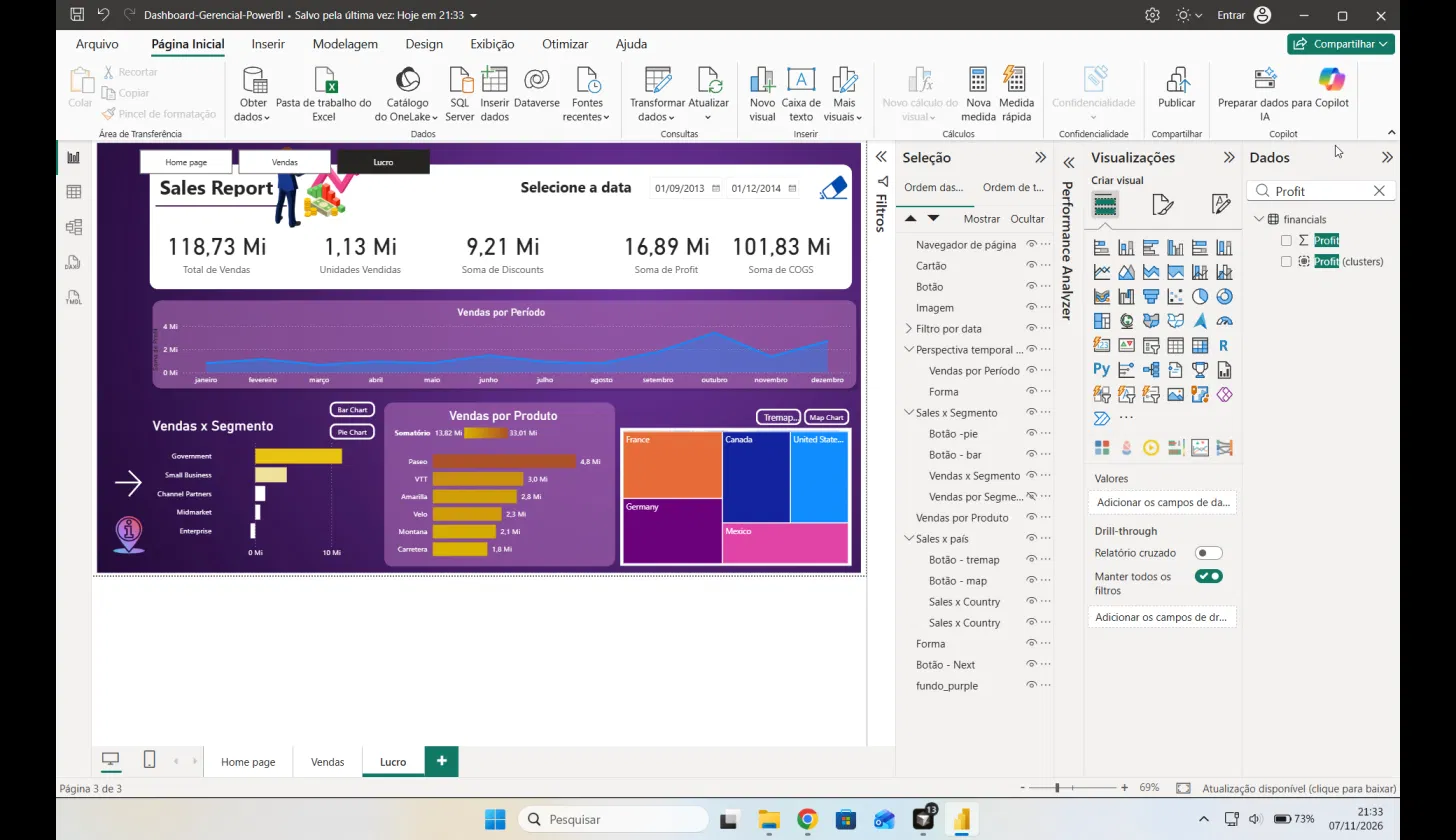

Layout of this report page (visuals, bound fields, positions):
{"tool":"powerbi","page":{"name":"Lucro","canvas":[1280,720],"ordinal":2},"visuals":[{"type":"image","title":"fundo_purple","box":[0,0,1280.3,720],"z":0},{"type":"shape","box":[95.8,41.1,1161.3,206.6],"z":0,"group":"g4"},{"type":"shape","box":[90.5,255.5,1181.8,163.7],"z":0,"group":"g3"},{"type":"map","title":"Sales x Country","fields":{"Category":["financials.Country"],"Size":["Sum(financials. Sales)"]},"box":[873.8,476.1,382,228.1],"z":0,"group":"g1"},{"type":"shape","box":[105.6,92.3,216.7,32.8],"z":1000,"group":"g4"},{"type":"areaChart","title":"Vendas por Período","fields":{"Category":["financials.Date.Variation.Hierarquia de datas.Trimestre","financials.Date.Variation.Hierarquia de datas.Mês"],"Y":["Sum(financials.Profit)"]},"box":[94.3,274.7,1163.2,139.7],"z":1000,"group":"g3"},{"type":"clusteredBarChart","title":"Vendas x Segmento","fields":{"Category":["financials.Segment"],"Y":["Sum(financials.Profit)"]},"box":[94.9,459.3,383.9,242.3],"z":1000,"group":"g2"},{"type":"treemap","title":"Sales x Country","fields":{"Group":["financials.Country"],"Values":["Sum(financials.Profit)"]},"box":[873.8,477.5,382,228.1],"z":1000,"group":"g1"},{"type":"actionButton","title":"Botão - Next","box":[32.4,539.2,58,56.3],"z":1000},{"type":"slicer","fields":{"Values":["financials.Date"]},"box":[909.9,50.5,272.2,55.6],"z":2000,"group":"g4"},{"type":"actionButton","title":"Botão - bar","box":[393.4,432.9,75.1,25.6],"z":2000,"group":"g2"},{"type":"shape","box":[482.9,433.4,382.2,271.3],"z":2000},{"type":"actionButton","title":"Botão - map","box":[1177.5,444.2,75.1,27.3],"z":2000,"group":"g1"},{"type":"textbox","box":[704.6,56.2,199.6,45.6],"z":3000,"group":"g4"},{"type":"group","id":"g1","title":"Sales x país","box":[873.8,444.2,382,261.4],"z":3000},{"type":"actionButton","title":"Botão - tremap","box":[1097.3,444.2,75.1,27.3],"z":3000,"group":"g1"},{"type":"actionButton","title":"Botão -pie","box":[393.2,469.1,74.8,26.6],"z":3000,"group":"g2"},{"type":"card","fields":{"Values":["Sum(financials.Units Sold)"]},"box":[338.3,130.3,211,105.5],"z":4000,"group":"g4"},{"type":"clusteredBarChart","title":"Vendas por Produto","fields":{"Category":["financials.Product"],"Y":["Sum(financials.Profit)"]},"box":[496.5,443.6,368.5,261.1],"z":4000},{"type":"textbox","box":[107,50.9,215.2,48.5],"z":5000,"group":"g4"},{"type":"group","id":"g2","title":"Sales x Segmento","box":[94.9,429.7,387.6,271.8],"z":5000},{"type":"actionButton","box":[1196.4,54.7,59.9,51.3],"z":6000,"group":"g4"},{"type":"group","id":"g3","title":"Perspectiva temporal das vendas","box":[90.5,255.5,1181.8,163.7],"z":6000},{"type":"group","id":"g4","title":"Filtro por data","box":[95.8,0,1161.3,247.7],"z":7000},{"type":"image","title":"clean","box":[1196.4,50.5,59.9,55.6],"z":8000,"group":"g4"},{"type":"image","box":[26.1,615.8,71.5,72.9],"z":8000},{"type":"card","fields":{"Values":["Sum(financials.Discounts)"]},"box":[574.9,130.3,211,105.5],"z":9000,"group":"g4"},{"type":"actionButton","box":[31.6,615.8,63.2,72.9],"z":9000},{"type":"card","fields":{"Values":["Sum(financials.Profit)"]},"box":[844.2,130.2,211,105.5],"z":10000},{"type":"card","fields":{"Values":["Sum(financials.COGS)"]},"box":[1033.9,130.3,211,105.5],"z":10000,"group":"g4"},{"type":"pageNavigator","box":[80,16,480,40],"z":11000},{"type":"card","fields":{"Values":["Sum(financials. Sales)"]},"box":[101.7,130.3,211,105.5],"z":11000,"group":"g4"},{"type":"image","box":[265.1,0,252.9,155.7],"z":12000,"group":"g4"}]}

Visuals, with their boxes on the page's 1280x720 design canvas (x1, y1, x2, y2). These are canvas units, not pixel positions in the 1456x840 screenshot, which may show the page scaled, cropped or inside an application window:
"fundo_purple" image: <region>0, 0, 1280, 720</region>
shape: <region>96, 41, 1257, 248</region>
shape: <region>90, 256, 1272, 419</region>
"Sales x Country" map: <region>874, 476, 1256, 704</region>
shape: <region>106, 92, 322, 125</region>
"Vendas por Período" areaChart: <region>94, 275, 1258, 414</region>
"Vendas x Segmento" clusteredBarChart: <region>95, 459, 479, 702</region>
"Sales x Country" treemap: <region>874, 478, 1256, 706</region>
"Botão - Next" actionButton: <region>32, 539, 90, 596</region>
slicer - financials.Date: <region>910, 50, 1182, 106</region>
"Botão - bar" actionButton: <region>393, 433, 468, 458</region>
shape: <region>483, 433, 865, 705</region>
"Botão - map" actionButton: <region>1178, 444, 1253, 472</region>
textbox: <region>705, 56, 904, 102</region>
"Sales x país" group: <region>874, 444, 1256, 706</region>
"Botão - tremap" actionButton: <region>1097, 444, 1172, 472</region>
"Botão -pie" actionButton: <region>393, 469, 468, 496</region>
card - Sum(financials.Units Sold): <region>338, 130, 549, 236</region>
"Vendas por Produto" clusteredBarChart: <region>496, 444, 865, 705</region>
textbox: <region>107, 51, 322, 99</region>
"Sales x Segmento" group: <region>95, 430, 482, 702</region>
actionButton: <region>1196, 55, 1256, 106</region>
"Perspectiva temporal das vendas" group: <region>90, 256, 1272, 419</region>
"Filtro por data" group: <region>96, 0, 1257, 248</region>
"clean" image: <region>1196, 50, 1256, 106</region>
image: <region>26, 616, 98, 689</region>
card - Sum(financials.Discounts): <region>575, 130, 786, 236</region>
actionButton: <region>32, 616, 95, 689</region>
card - Sum(financials.Profit): <region>844, 130, 1055, 236</region>
card - Sum(financials.COGS): <region>1034, 130, 1245, 236</region>
pageNavigator: <region>80, 16, 560, 56</region>
card - Sum(financials. Sales): <region>102, 130, 313, 236</region>
image: <region>265, 0, 518, 156</region>
